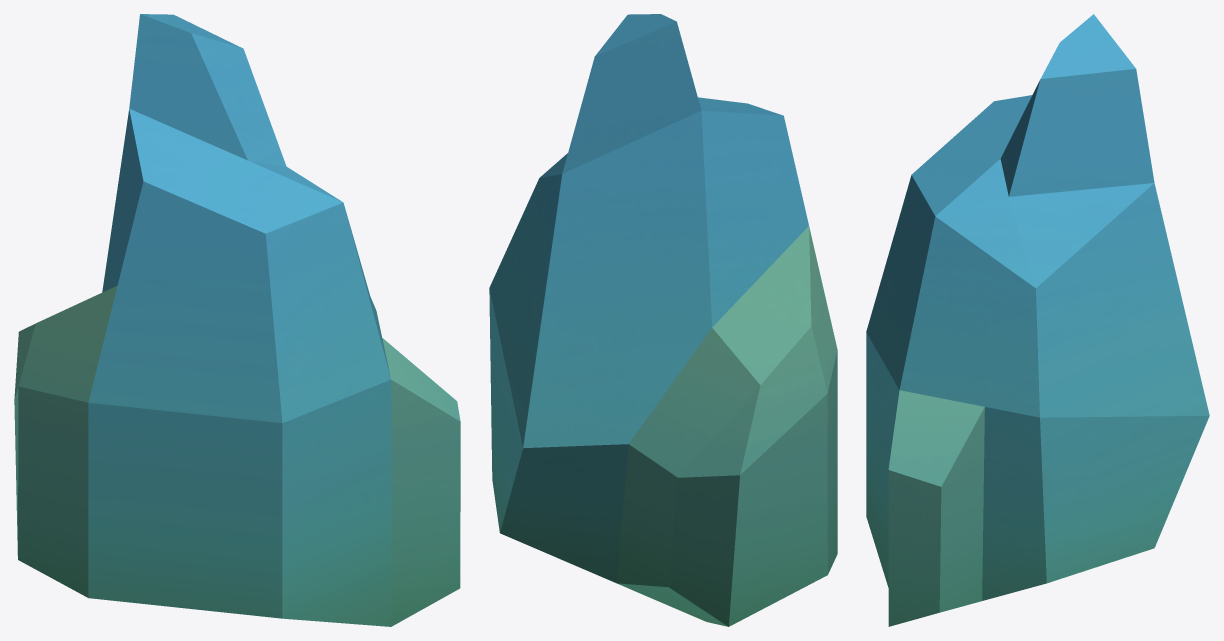
The model's file is medium_rock_lush.FBX.
3 renders of one model, left to right at view 1: azimuth 30°, elevation 25°; view 2: azimuth 150°, elevation 25°; view 3: azimuth 270°, elevation 25°, orthographic. The views are drawn at different scales.
Visible parts, largest first — view 1: medium_rock_lush; view 2: medium_rock_lush; view 3: medium_rock_lush.
Boxes of the visible parts, <box> form: medium_rock_lush: <box>14,14,460,626</box>; medium_rock_lush: <box>489,14,837,626</box>; medium_rock_lush: <box>866,14,1209,626</box>.
Size of the model in its own units: 3.75 by 5.57 by 3.2.
